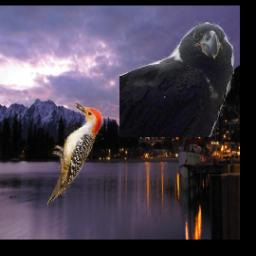Crow: (119, 22, 235, 137)
Woodpecker: (46, 101, 102, 208)
